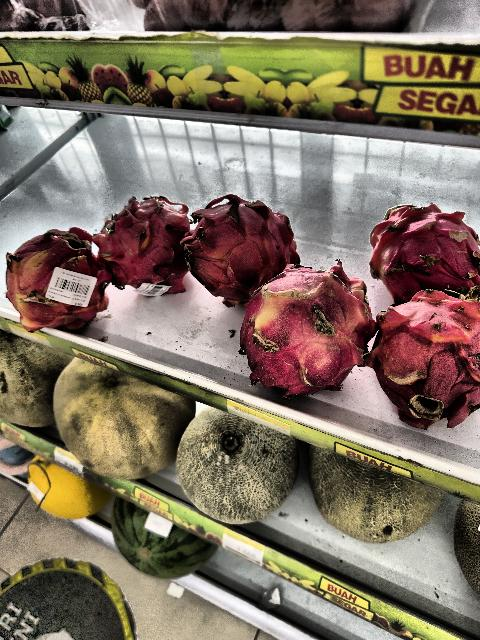buah-naga-belum-matang: (239, 253, 375, 402), (0, 222, 110, 340)
buah-naga-matang: (356, 288, 480, 432), (364, 185, 480, 298), (178, 194, 300, 300), (94, 196, 193, 296)
